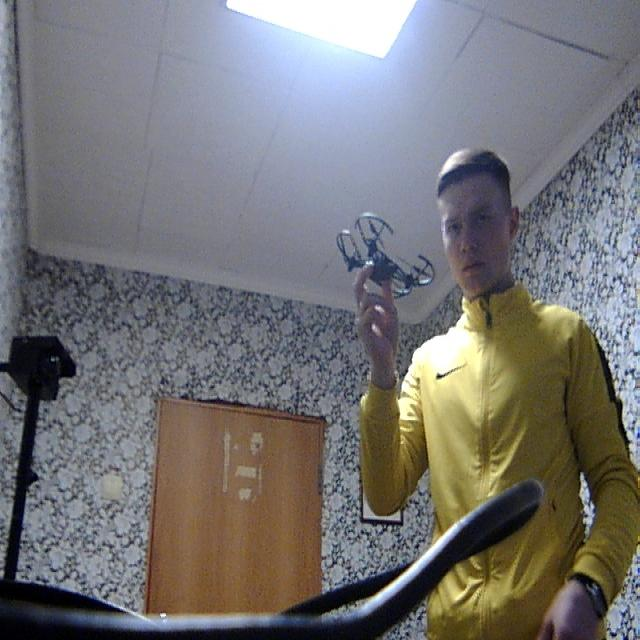drone: (331, 196, 444, 312)
